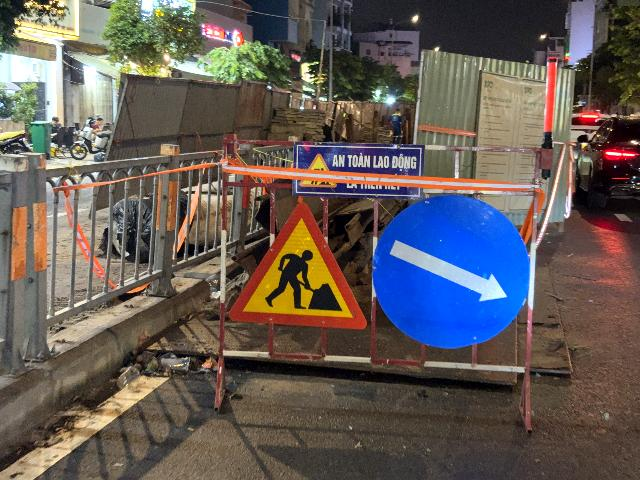cong-truong-dang-thi-cong: (229, 202, 367, 329)
huong-phai-di-vong-chuong-ngai-vat: (371, 194, 530, 349)
